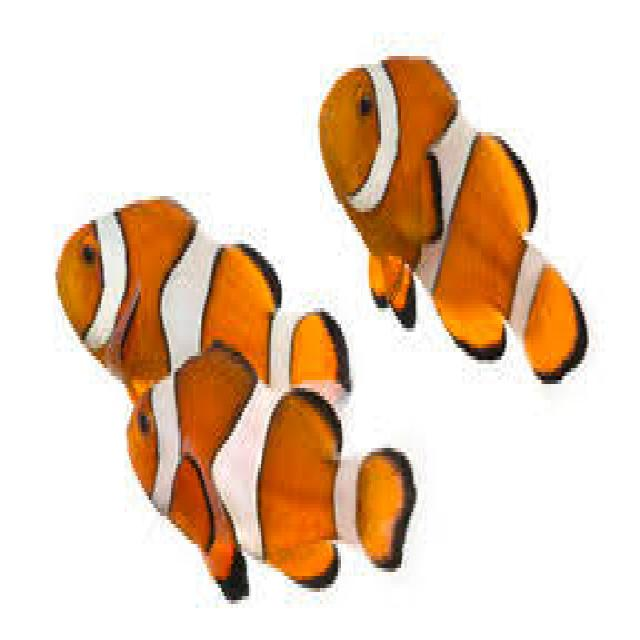Amphiprion-percula: (307, 40, 585, 431), (41, 167, 352, 445), (120, 354, 451, 590)
